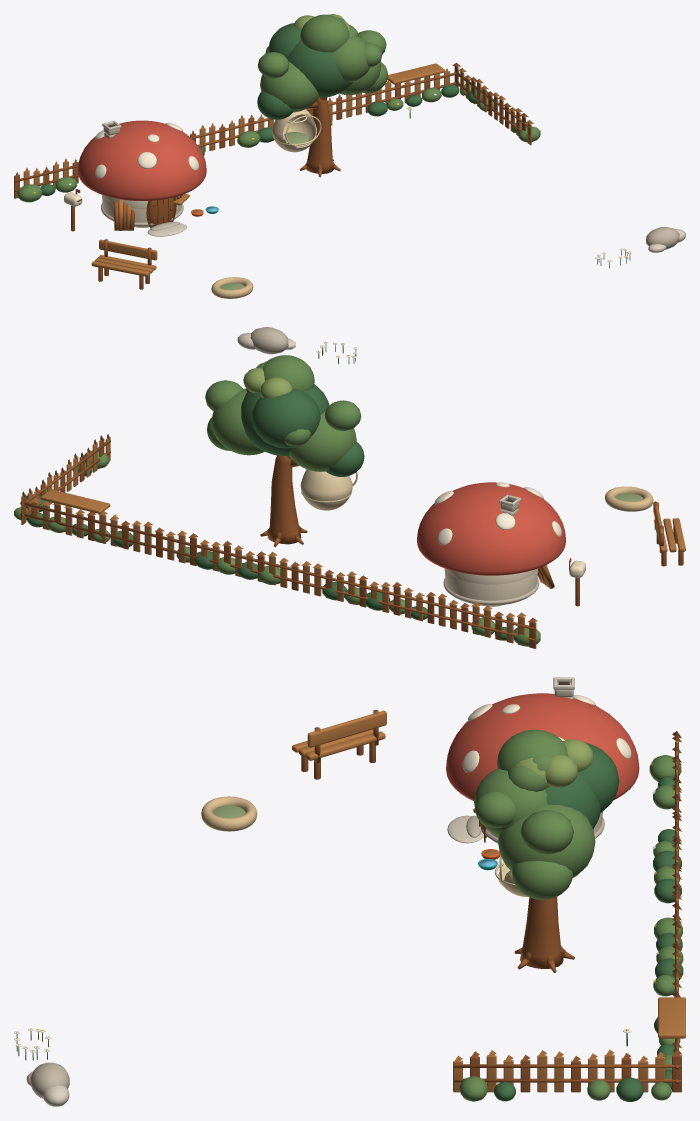
Rendered from yard.glb.
3 renders of one model, top to bottom at view 1: azimuth 30°, elevation 25°; view 2: azimuth 150°, elevation 25°; view 3: azimuth 270°, elevation 25°, orthographic. The views are drawn at different scales.
Visible parts, largest first — view 1: fence, tree_crown, house_cap, house, tree_trunk, nest_shell, bench, tree_tuft_7, bed_rim, fence_perch, bench_back, house_door (+1 smaller); view 2: fence, house_cap, tree_crown, tree_trunk, house_stem_base, nest_shell, house, tree_tuft_7, bed_rim, fence_perch, garden_stone_0, house_stem (+3 smaller); view 3: fence, tree_crown, house_cap, tree_trunk, tree_tuft_1, bed_rim, bench_back, tree_tuft_5, fence_perch, house, bench, garden_stone_0 (+3 smaller).
Part boxes in pixels (x1,y1,x2,y2): fence: [14, 62, 540, 202]; tree_crown: [257, 14, 387, 119]; house_cap: [77, 120, 206, 200]; house: [95, 122, 198, 230]; tree_trunk: [306, 97, 333, 173]; nest_shell: [272, 109, 316, 152]; bench: [91, 255, 156, 276]; tree_tuft_7: [258, 52, 289, 78]; bed_rim: [211, 277, 253, 298]; fence_perch: [387, 63, 445, 84]; bench_back: [99, 239, 157, 260]; house_door: [149, 197, 174, 226]; fence: [14, 434, 540, 648]; house_cap: [417, 482, 565, 575]; tree_crown: [207, 355, 364, 476]; tree_trunk: [267, 455, 301, 544]; house_stem_base: [444, 568, 538, 605]; nest_shell: [300, 469, 352, 510]; house: [434, 482, 561, 588]; tree_tuft_7: [324, 400, 361, 430]; bed_rim: [605, 486, 653, 511]; fence_perch: [40, 489, 110, 513]; garden_stone_0: [250, 327, 288, 354]; house_stem: [445, 569, 536, 606]; fence: [453, 731, 683, 1101]; tree_crown: [474, 729, 619, 899]; house_cap: [446, 693, 639, 800]; tree_trunk: [520, 896, 563, 968]; tree_tuft_1: [520, 810, 573, 854]; bed_rim: [201, 796, 257, 831]; bench_back: [307, 710, 386, 747]; tree_tuft_5: [474, 791, 515, 827]; fence_perch: [658, 997, 685, 1038]; house: [462, 682, 631, 826]; bench: [292, 729, 385, 760]; garden_stone_0: [30, 1062, 69, 1098].
Size of the model in its own units: 8.52 by 2.74 by 6.75.
